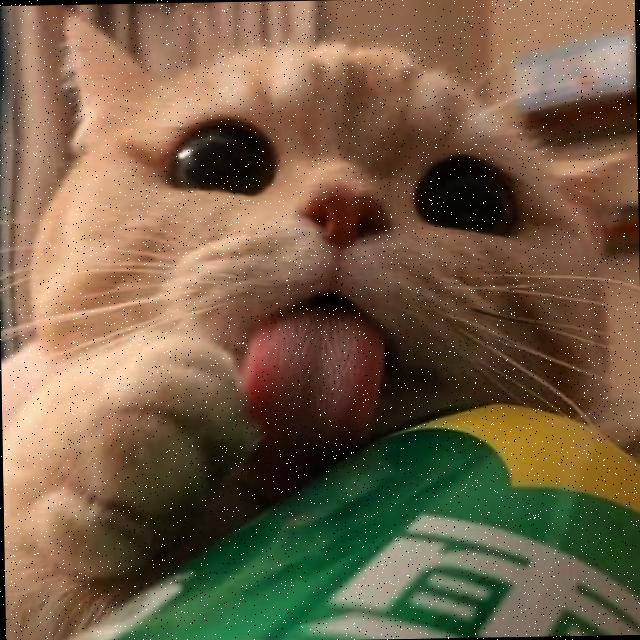Happy: (119, 85, 530, 474)
